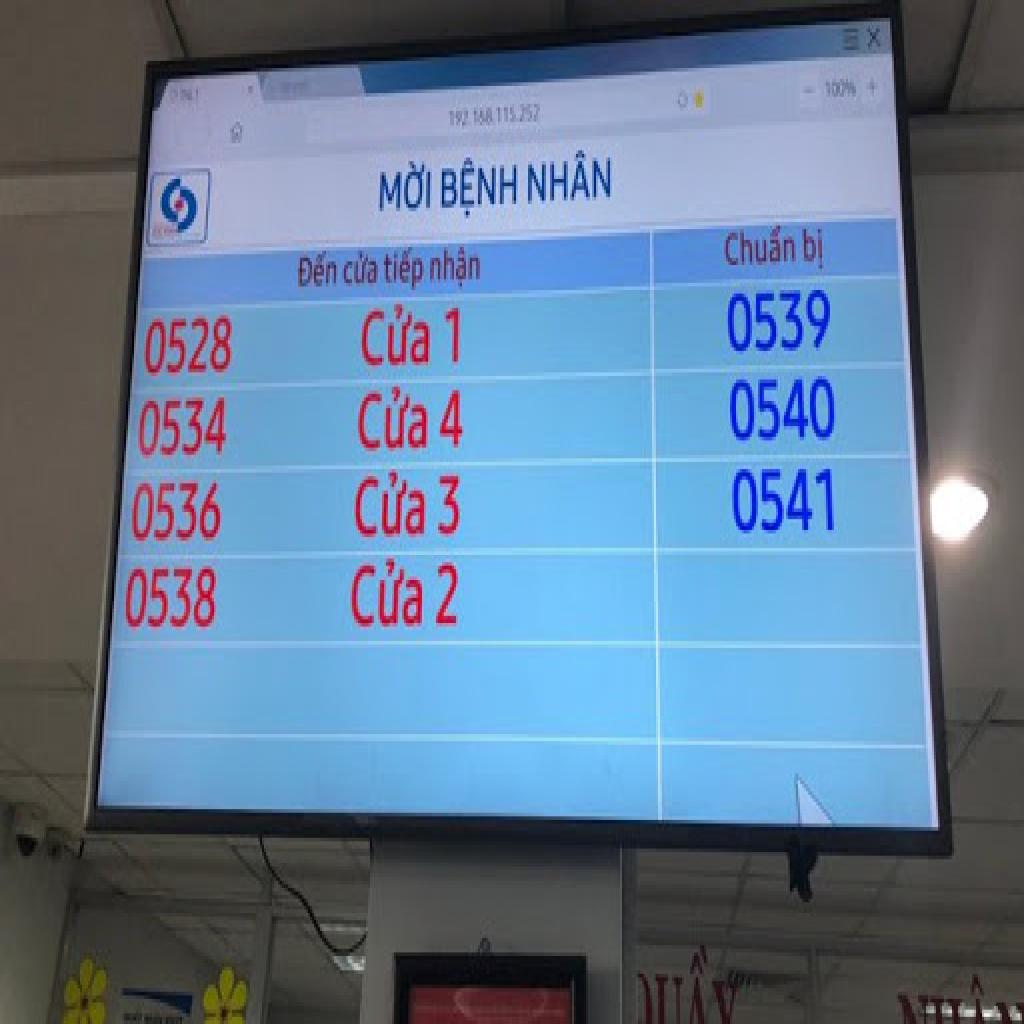text: (726, 369, 842, 451), (726, 283, 836, 365), (120, 562, 222, 637), (128, 476, 226, 552), (140, 312, 238, 383), (136, 394, 232, 465), (348, 555, 426, 634), (350, 469, 430, 544), (440, 154, 522, 226), (526, 147, 618, 211), (354, 383, 430, 455), (360, 301, 432, 376), (722, 222, 800, 272), (376, 158, 436, 218), (446, 100, 546, 136), (428, 244, 484, 294), (384, 244, 426, 297), (434, 555, 462, 634), (296, 247, 340, 297), (436, 386, 466, 454), (436, 472, 466, 540), (440, 301, 466, 376), (340, 247, 380, 294), (800, 222, 830, 276), (824, 72, 860, 108)
